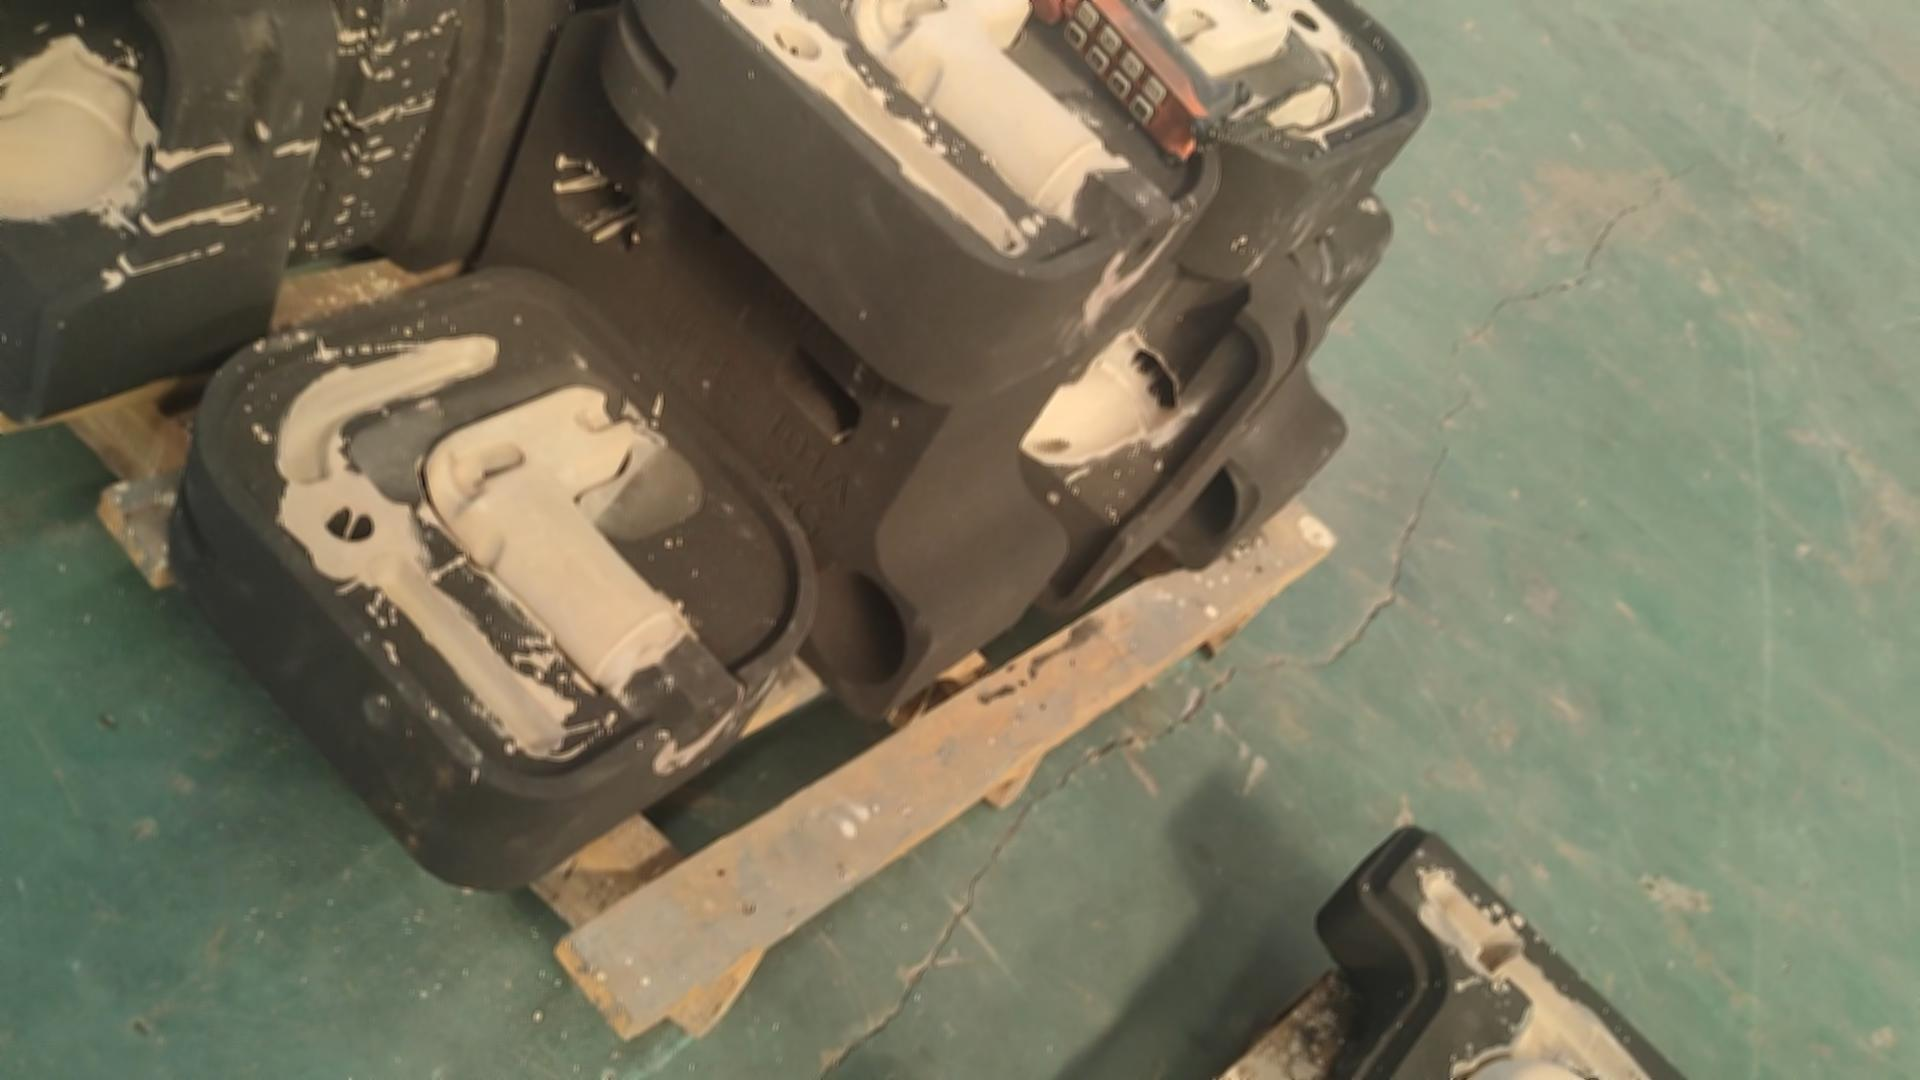pouring hole: (800, 567, 907, 686), (1149, 454, 1240, 546)
